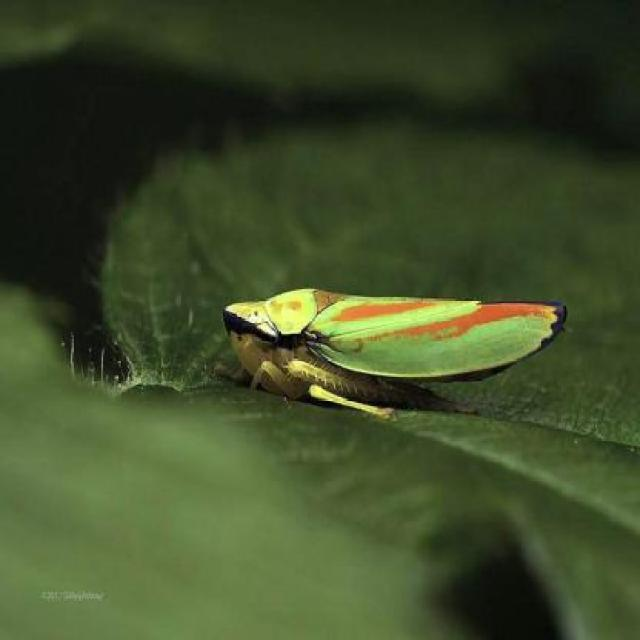green-leafhopper: (220, 275, 563, 443)
